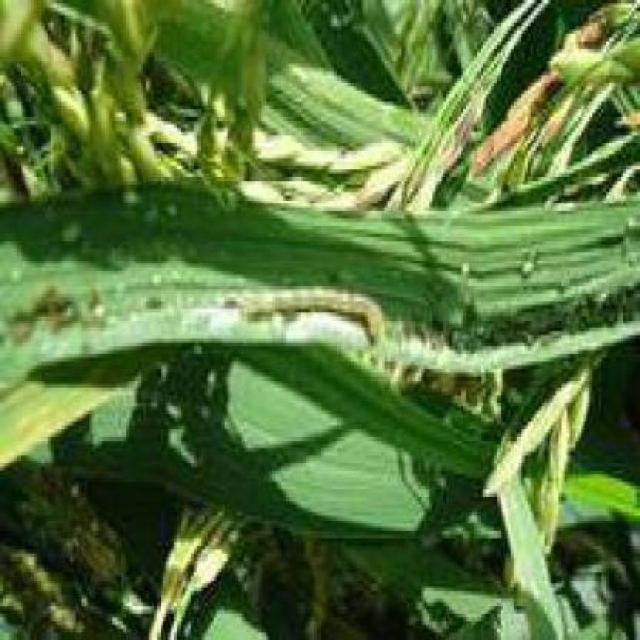leaf-folder: (238, 282, 391, 352)
